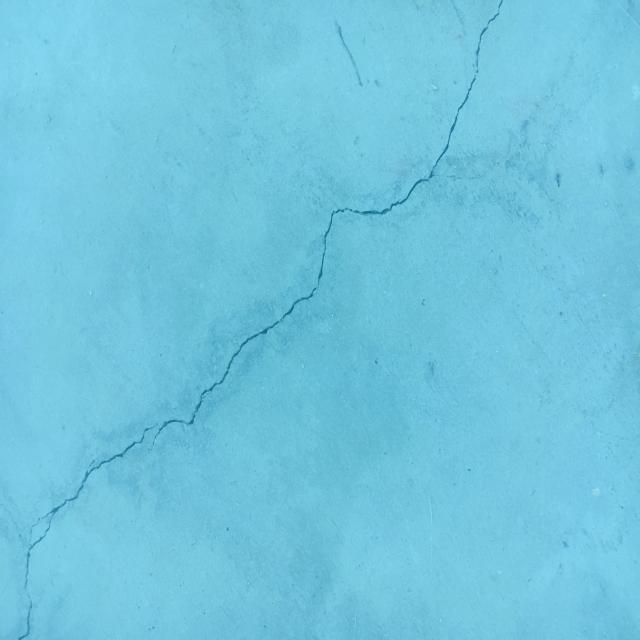crack: (18, 0, 502, 640), (336, 25, 364, 88), (449, 0, 464, 25)
